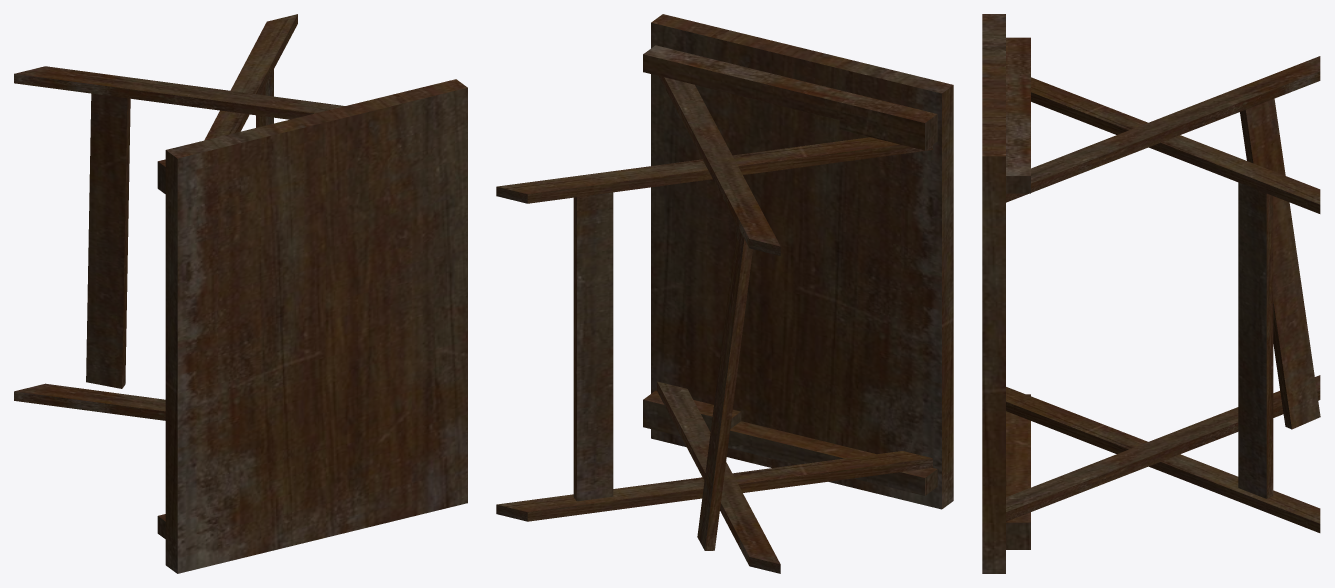
The model's file is furniture_duhoc_bunker_table.glb.
3 renders of one model, left to right at view 1: azimuth 30°, elevation 25°; view 2: azimuth 150°, elevation 25°; view 3: azimuth 270°, elevation 25°, orthographic.
Size of the model in its own units: 33.91 by 46.35 by 34.04.
Materials: 1 (1 with a texture image).
